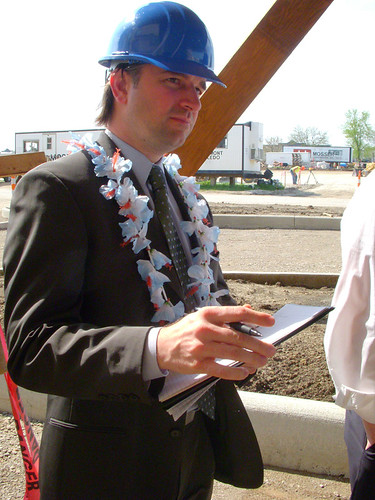person hardhat: (10, 2, 279, 500)
